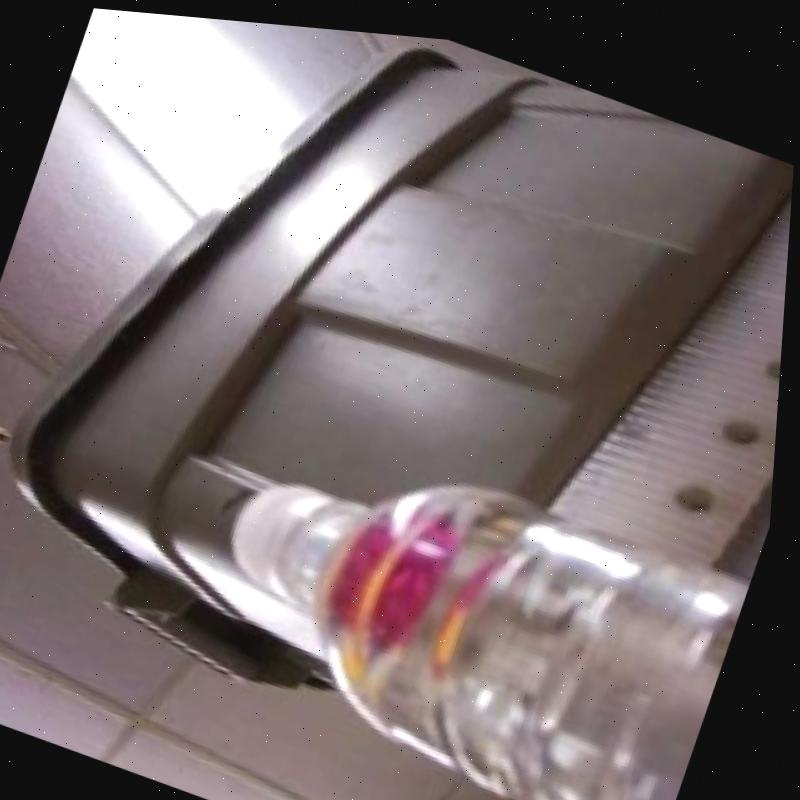botella: (188, 397, 765, 800)
